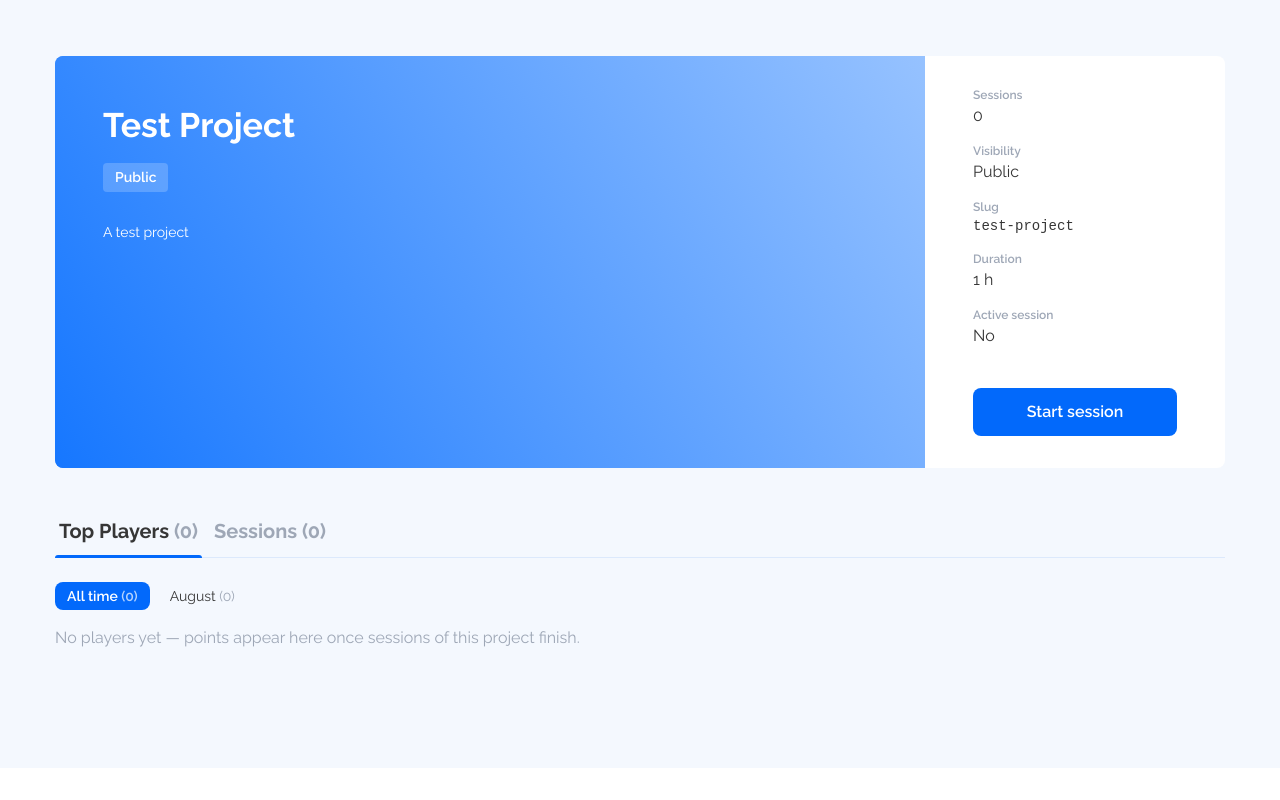
Test: routes/projects/[slug]/+page.svelte › renders empty state when no sessions
The image size is (1280, 800).
Note: Sessions live behind the Sessions tab (Top Players is the default).
Click the tab "Sessions (0)": (270, 537) [210,516,330,558]
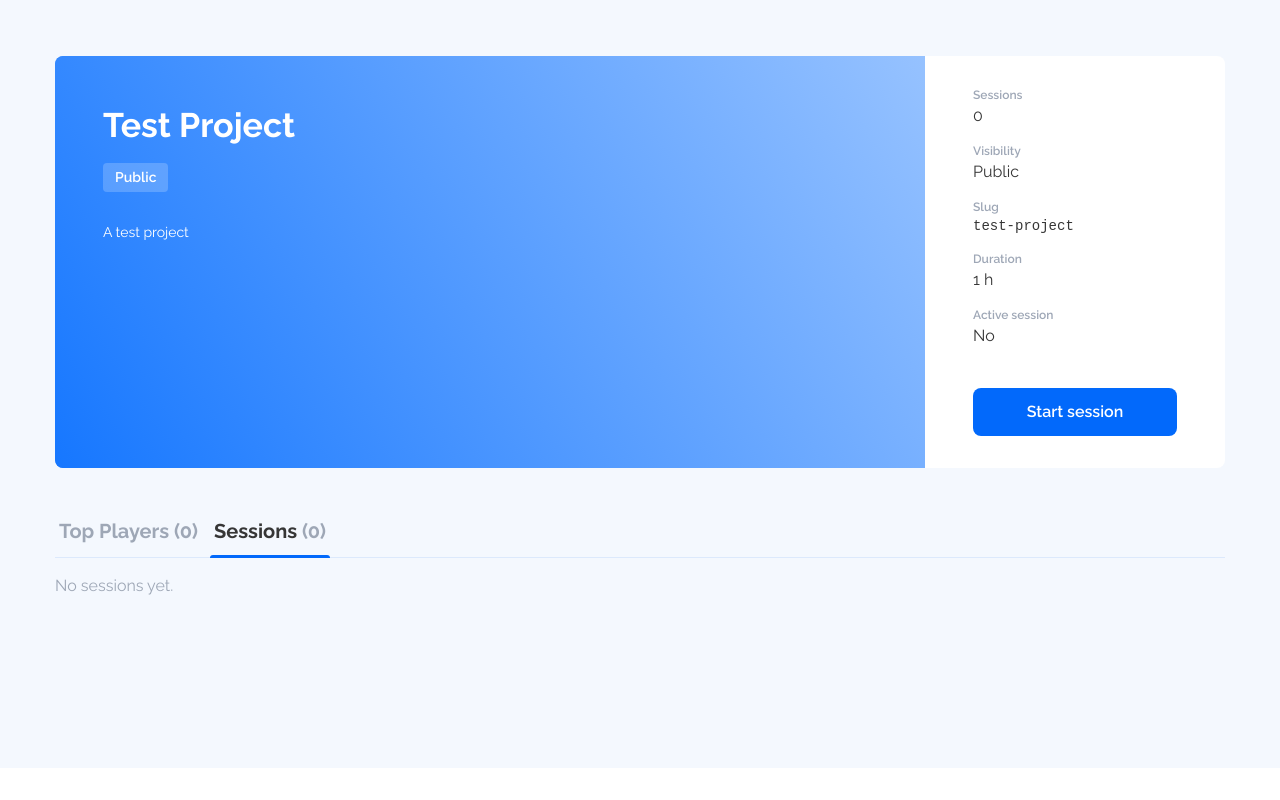
Now the text "No sessions yet." is shown, box [55,576,173,595]
